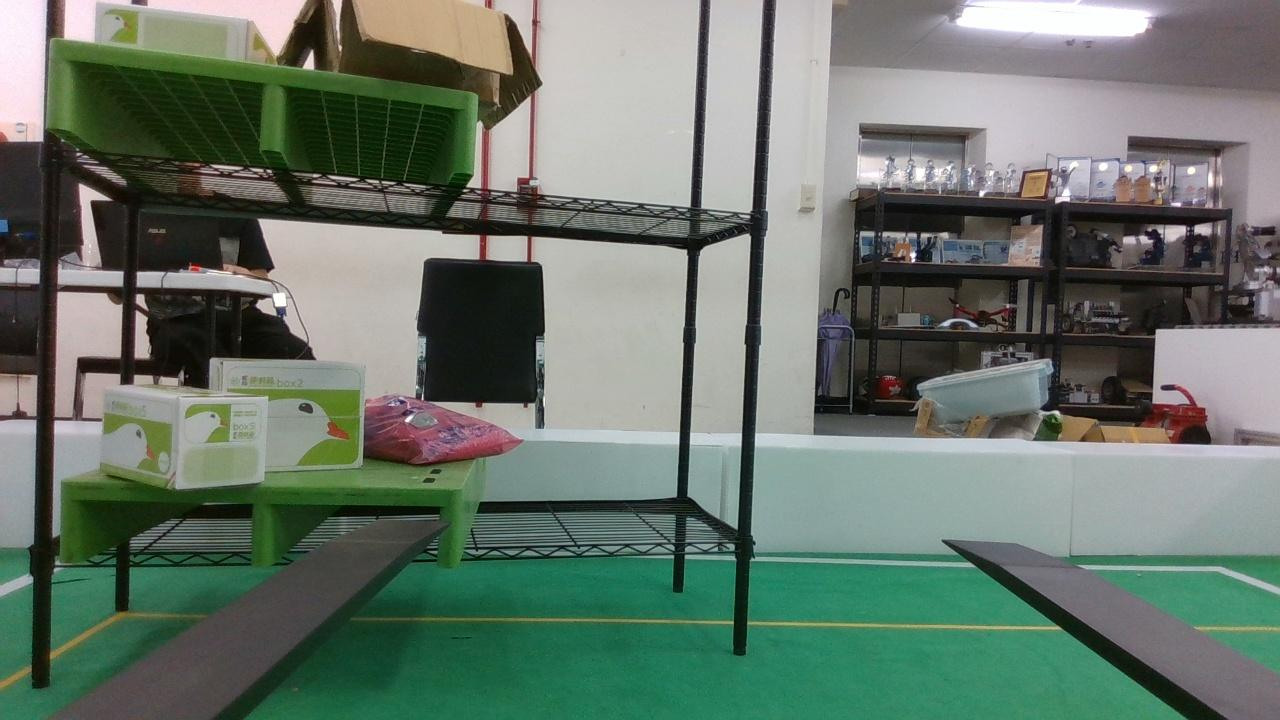Pallet: (40, 39, 485, 186), (57, 481, 465, 572)
